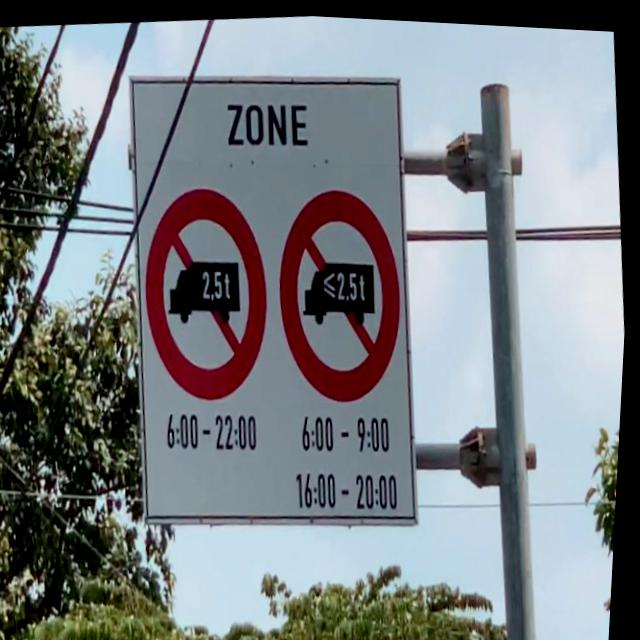Cam xe tai tren 2_5: (134, 175, 285, 408), (268, 177, 418, 409)
